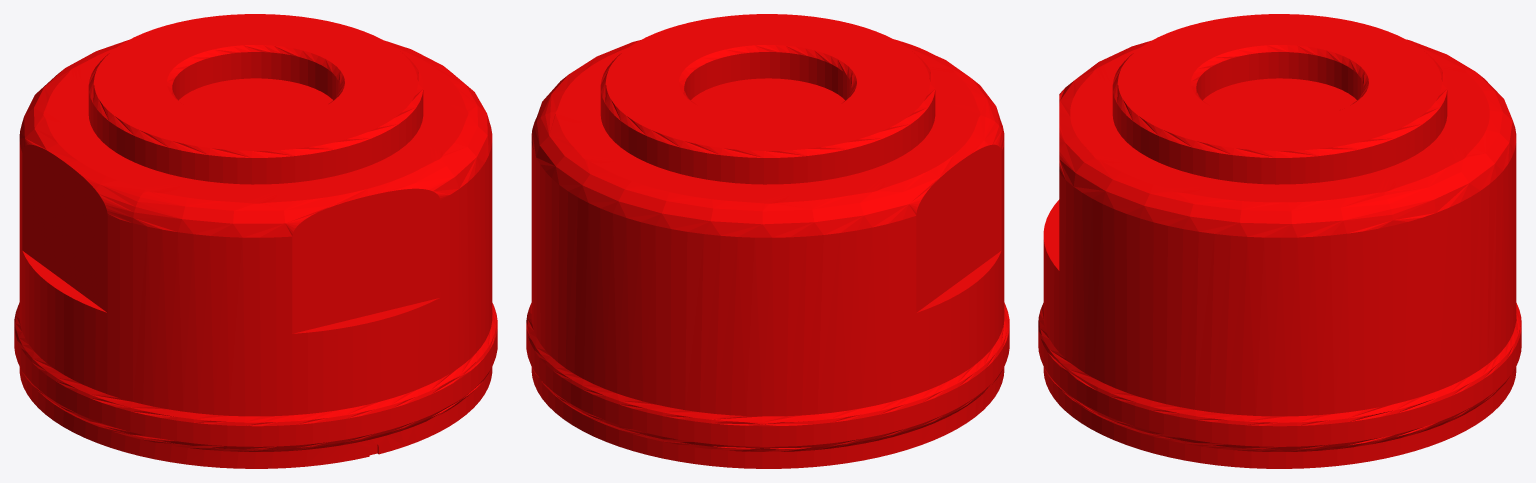
The picture shows the model from 3 angles, left to right: view 1: azimuth 30°, elevation 25°; view 2: azimuth 150°, elevation 25°; view 3: azimuth 270°, elevation 25°; orthographic projection.
Parts seen in each view (by area): view 1: MF1013_6_0; view 2: MF1013_6_0; view 3: MF1013_6_0.
Boxes of the visible parts, x1,y1,x2,y2 form: MF1013_6_0: (14,14,497,468); MF1013_6_0: (526,14,1009,468); MF1013_6_0: (1038,14,1521,468).
Size of the model in its own units: 91 by 91 by 59.5.
